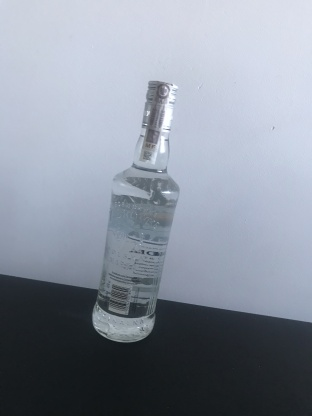nakretka: (139, 74, 179, 136)
